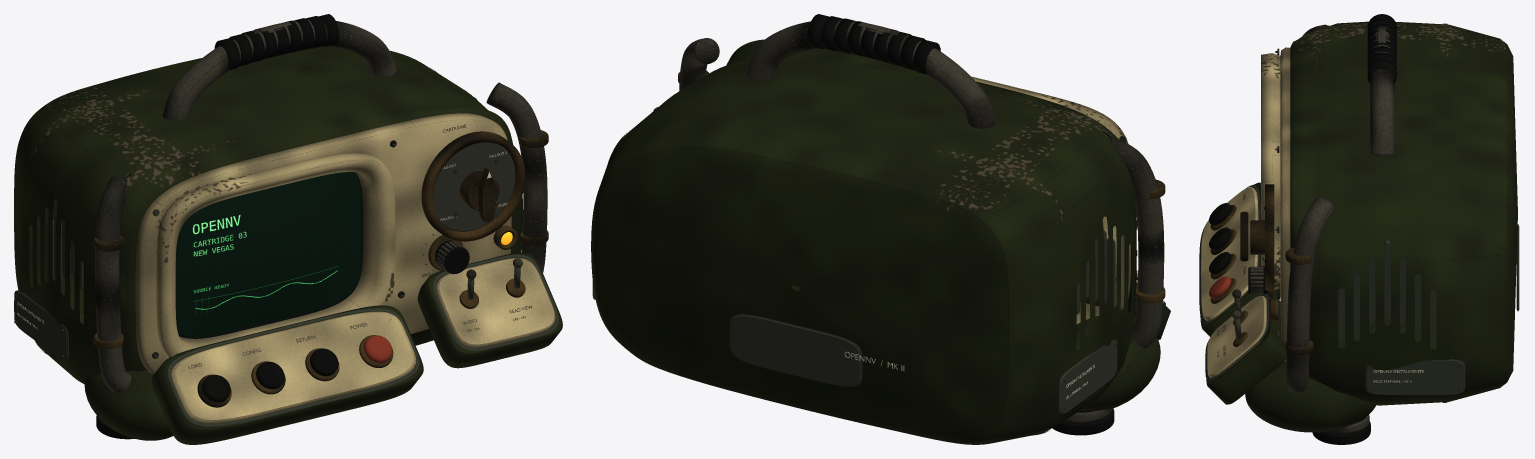
Rendered from launcher_device.glb.
The picture shows the model from 3 angles, left to right: view 1: azimuth 30°, elevation 25°; view 2: azimuth 150°, elevation 25°; view 3: azimuth 270°, elevation 25°; orthographic projection. The views are drawn at different scales.
Visible parts, largest first — view 1: Housing, CRT_Screen, Fascia_ContinuousIvoryCasting, Bank_Launch_IvoryInset, CRT_DeepRolledHood, Housing_FrontSculptedShoulder, Bank_Systems_IvoryInset, Bank_Launch_CastSurround, Guard_TubularSide_-1, Handle_ContinuousCastArch, Selector_DarkInsetFace, Guard_TubularSide_1 (+15 smaller); view 2: Housing_RearRolledShoulder, Housing, Rear_IdentificationPlate, Handle_ContinuousCastArch, Guard_TubularSide_-1, Housing_FrontSculptedShoulder, Bumper_CastOvoid_-1, Side_IDPlate_-1, Guard_TubularSide_1, CRT_DeepRolledHood, Foot_Isolator_-1_0, Fascia_ContinuousIvoryCasting; view 3: Housing, Housing_FrontSculptedShoulder, Bumper_CastOvoid_1, Guard_TubularSide_1, CRT_DeepRolledHood, Bank_Launch_IvoryInset, Side_IDPlate_1, Fascia_ContinuousIvoryCasting, Bank_Systems_CastSurround, Housing_RearRolledShoulder, Bank_Systems_IvoryInset, Handle_ContinuousCastArch (+19 smaller).
Part boxes in pixels (x1,y1,x2,y2): Housing: [14, 46, 488, 384]; CRT_Screen: [175, 172, 361, 338]; Fascia_ContinuousIvoryCasting: [135, 113, 511, 373]; Bank_Launch_IvoryInset: [171, 311, 416, 423]; CRT_DeepRolledHood: [156, 153, 395, 357]; Housing_FrontSculptedShoulder: [119, 101, 523, 371]; Bank_Systems_IvoryInset: [436, 257, 555, 347]; Bank_Launch_CastSurround: [151, 305, 423, 444]; Guard_TubularSide_-1: [95, 176, 131, 392]; Handle_ContinuousCastArch: [162, 19, 396, 120]; Selector_DarkInsetFace: [433, 142, 515, 231]; Guard_TubularSide_1: [486, 82, 547, 272]; Housing_RearRolledShoulder: [594, 146, 1008, 442]; Housing: [591, 55, 1135, 444]; Rear_IdentificationPlate: [729, 314, 862, 386]; Handle_ContinuousCastArch: [745, 20, 996, 128]; Guard_TubularSide_-1: [1110, 136, 1164, 347]; Housing_FrontSculptedShoulder: [726, 39, 1136, 325]; Bumper_CastOvoid_-1: [1076, 316, 1160, 411]; Side_IDPlate_-1: [1058, 339, 1117, 413]; Guard_TubularSide_1: [679, 38, 719, 90]; CRT_DeepRolledHood: [971, 76, 1128, 278]; Foot_Isolator_-1_0: [1052, 408, 1114, 435]; Fascia_ContinuousIvoryCasting: [976, 81, 1130, 324]; Housing: [1319, 21, 1507, 405]; Housing_FrontSculptedShoulder: [1290, 29, 1319, 382]; Bumper_CastOvoid_1: [1245, 361, 1376, 432]; Guard_TubularSide_1: [1286, 197, 1335, 393]; CRT_DeepRolledHood: [1261, 53, 1280, 289]; Bank_Launch_IvoryInset: [1201, 187, 1258, 320]; Side_IDPlate_1: [1365, 359, 1465, 394]; Fascia_ContinuousIvoryCasting: [1280, 47, 1290, 361]; Bank_Systems_CastSurround: [1206, 294, 1286, 404]; Housing_RearRolledShoulder: [1507, 45, 1517, 381]; Bank_Systems_IvoryInset: [1207, 296, 1266, 377]; Handle_ContinuousCastArch: [1370, 26, 1394, 155].
Size of the model in its own units: 0.728 by 0.5299 by 0.4829.
12 materials, 6 textured.
